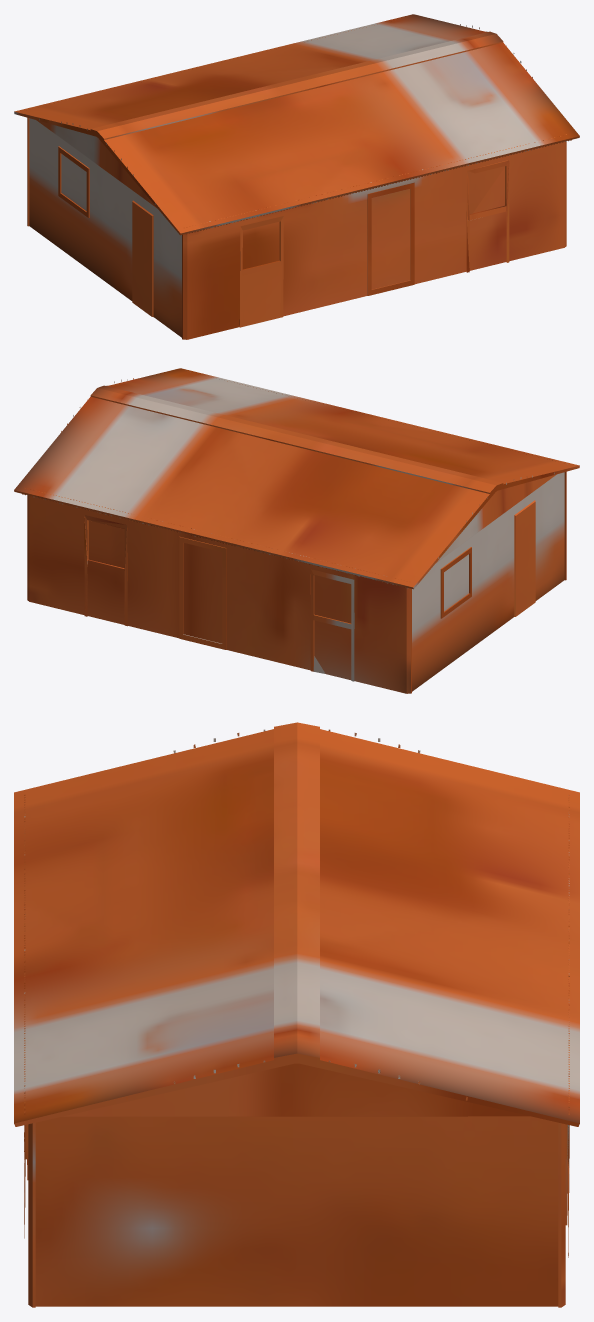
Rendered from bedeng2.obj.
3 views of the same model, one above another, from view 1: azimuth 30°, elevation 25°; view 2: azimuth 150°, elevation 25°; view 3: azimuth 270°, elevation 25° (orthographic). The views are drawn at different scales.
Visible parts, largest first — view 1: texture_pbr_v128; view 2: texture_pbr_v128; view 3: texture_pbr_v128.
Part boxes in pixels (left/top/right/bottom): texture_pbr_v128: left=14, top=14, right=579, bottom=339; texture_pbr_v128: left=14, top=368, right=579, bottom=693; texture_pbr_v128: left=14, top=722, right=579, bottom=1307.
Size of the model in its own units: 0.964 by 0.3536 by 0.6962.
